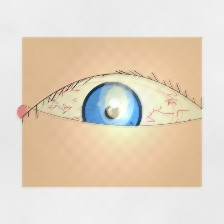corneal_ulcer: (90, 82, 143, 124)
